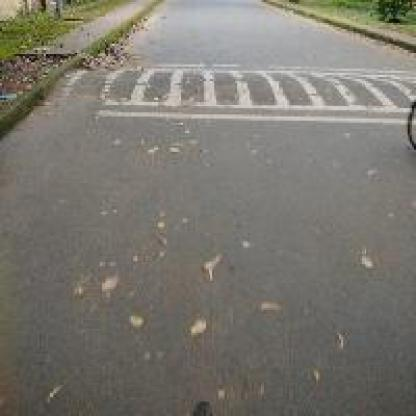Speed Bump: (61, 60, 404, 129)
